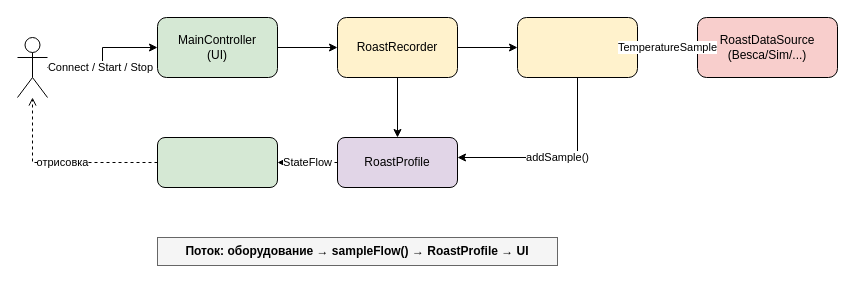
Some shapes in this 855 by 283 pixel diagram are drawn without their labels. The centre of each missing label's shape, as x and y in pixels:
CurveChartFx: (x=217, y=162)
SamplingEngine: (x=577, y=47)
User: (x=32, y=67)
